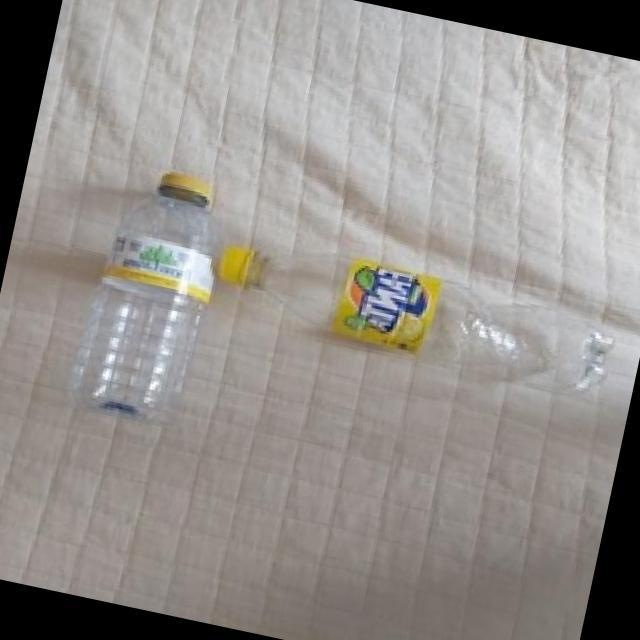good: (203, 219, 624, 406), (62, 150, 233, 438)
